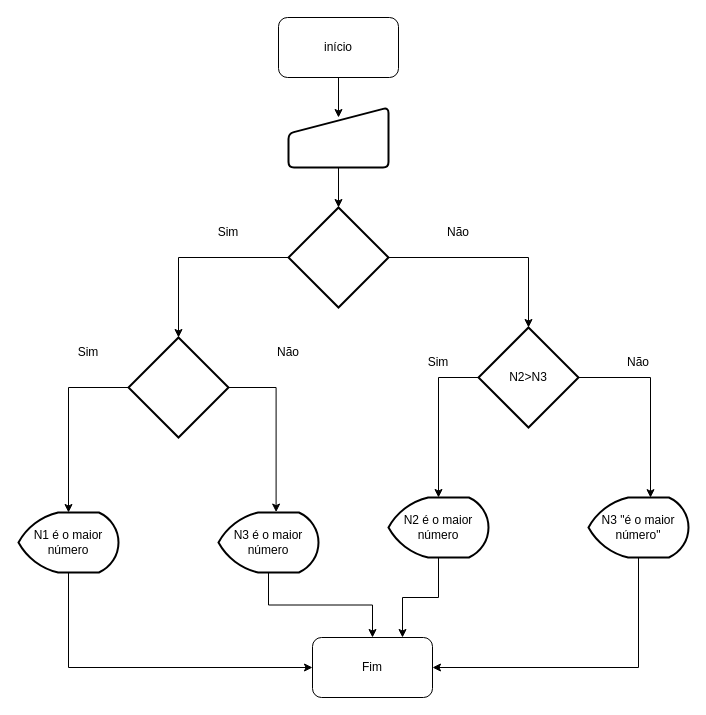
Some shapes in this 706 by 715 pixel diagram are drawn without their labels. Each missing label, with the centre of its shape:
"N1,N2,N3" goes at (x=338, y=137).
"N1>N2" goes at (x=338, y=257).
"N1>N3" goes at (x=178, y=387).
